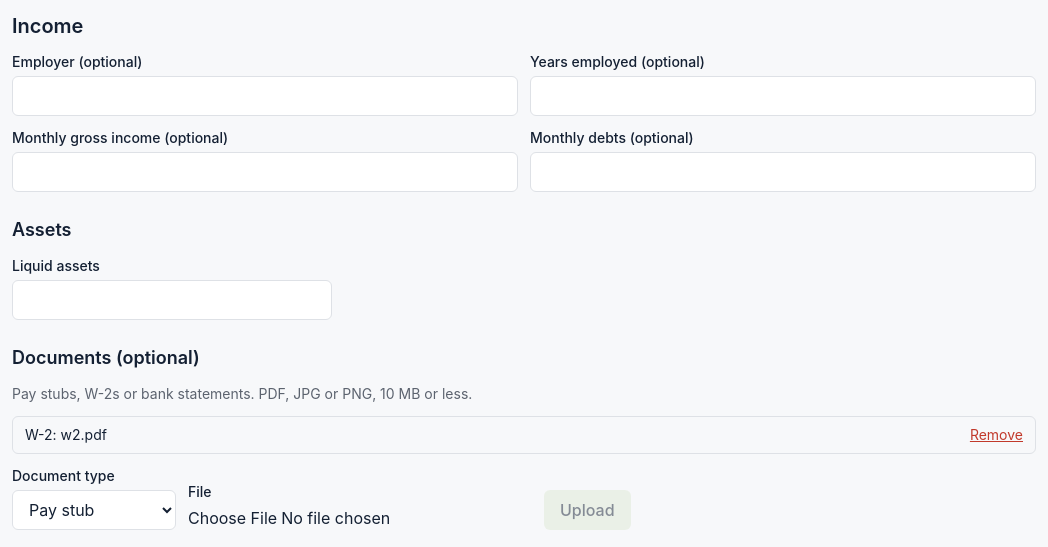
Test: IncomeTab (CQ-032 spec.md tab 3) › removes an uploaded document
expect the text "W-2: w2.pdf" is shown: met, box 25,425 -> 107,445
What coordinates should you click on to do the following:
click the button "Remove"
I would click on:
 (996, 435)
Its box is 970,425 -> 1023,445.
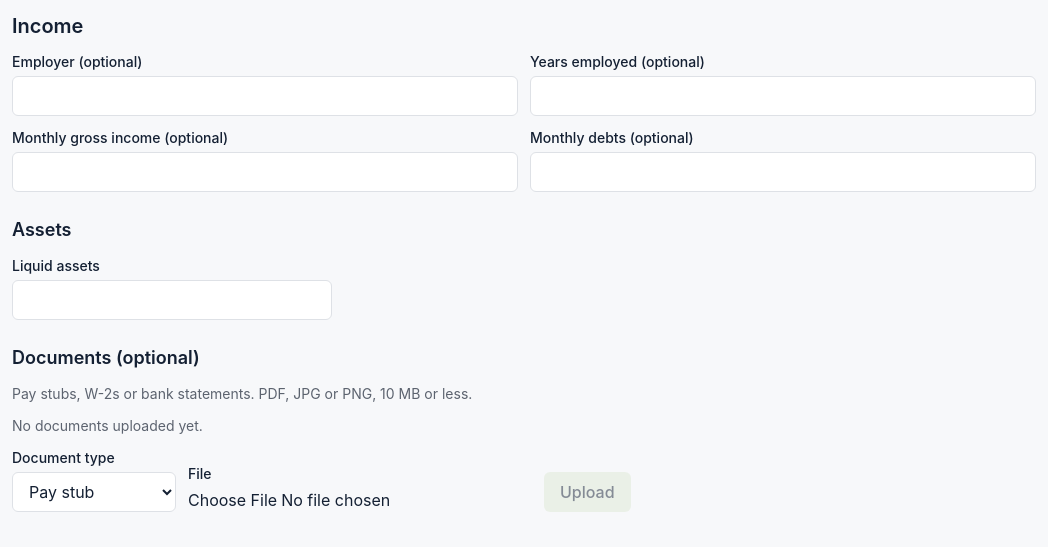
expect the text "W-2: w2.pdf" is gone: met
